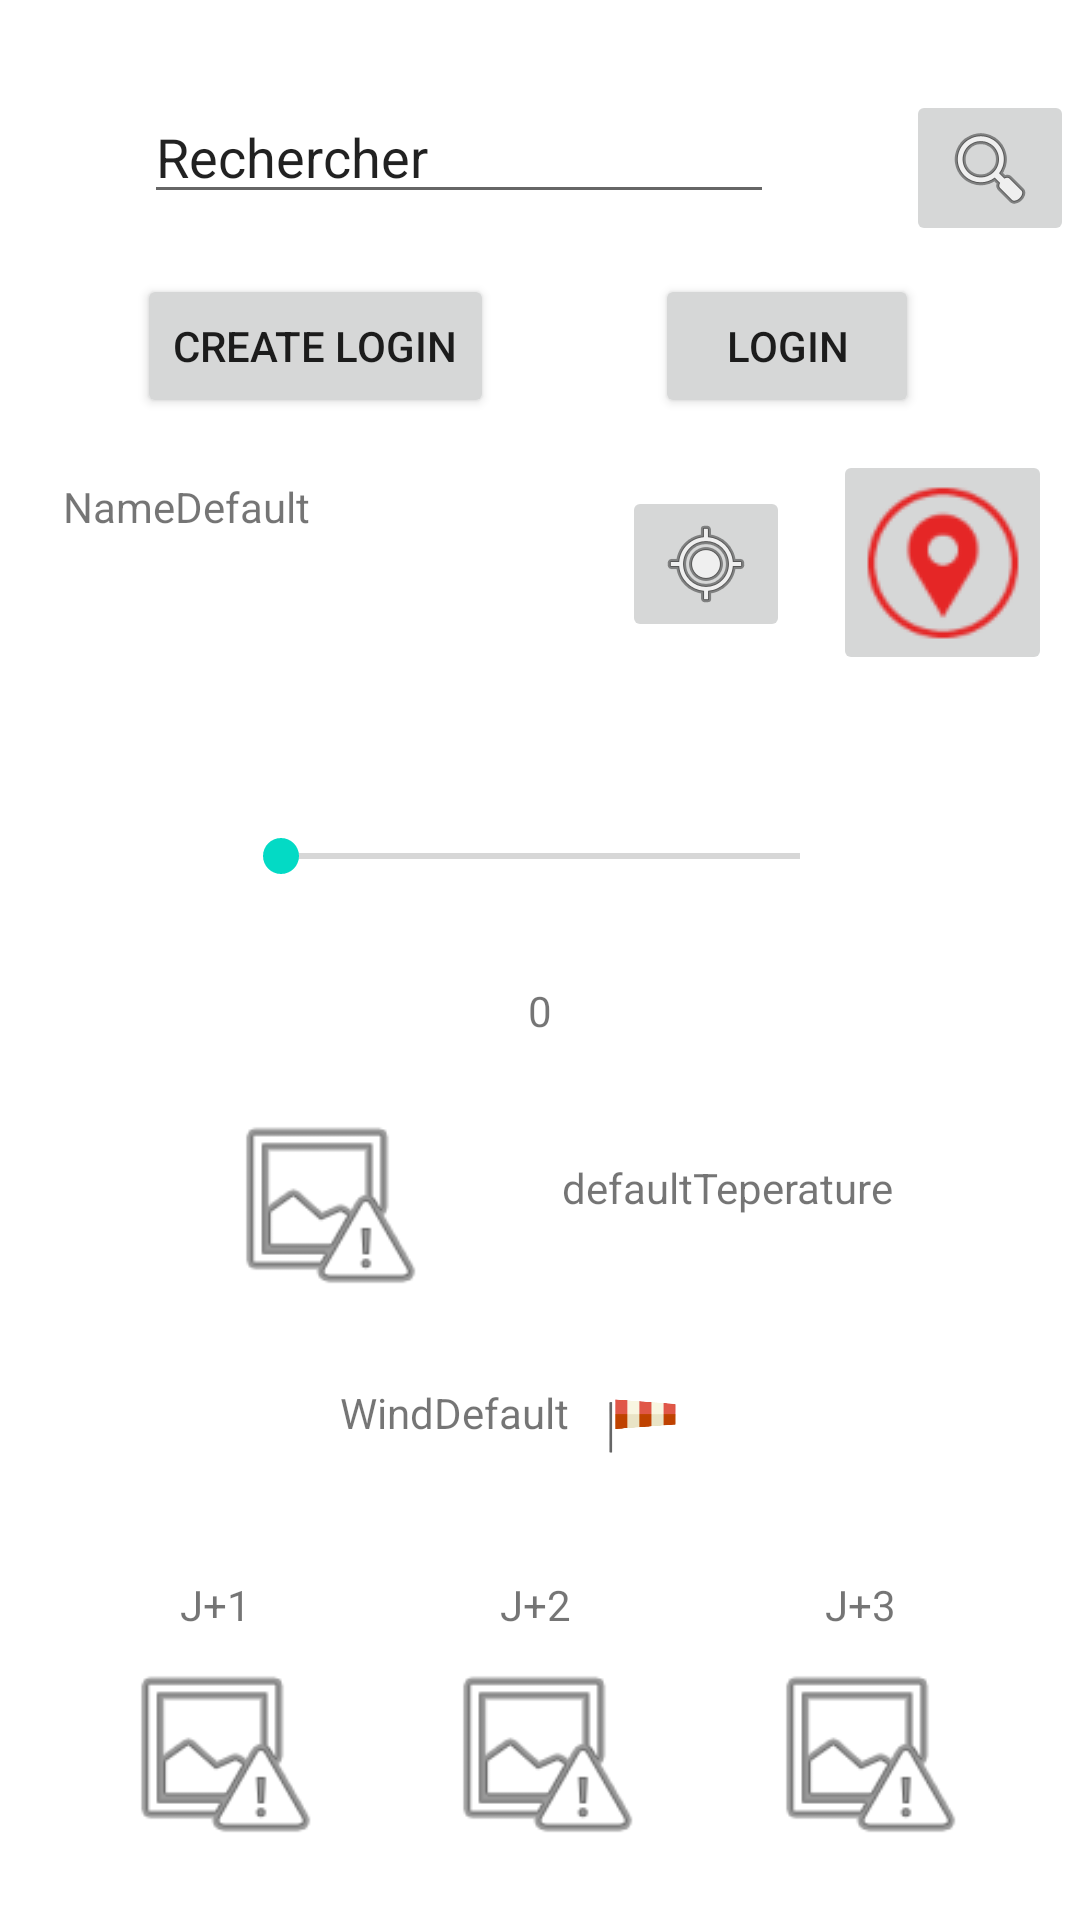

Where to tap for icons on this 1080×1920 app screen, as (x,y):
Boutton de recherche: (990,168)
manche aire: (642,1426)
mylocation: (706,564)
ping carte: (942,562)
